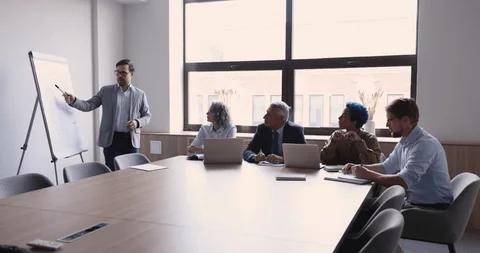jacket: (68, 83, 153, 147), (243, 121, 309, 165)
long sleeve shirt: (380, 123, 455, 205), (319, 128, 380, 166), (189, 122, 238, 152)
short sleeve shirt: (112, 84, 133, 132)
trousers: (104, 131, 139, 174)
